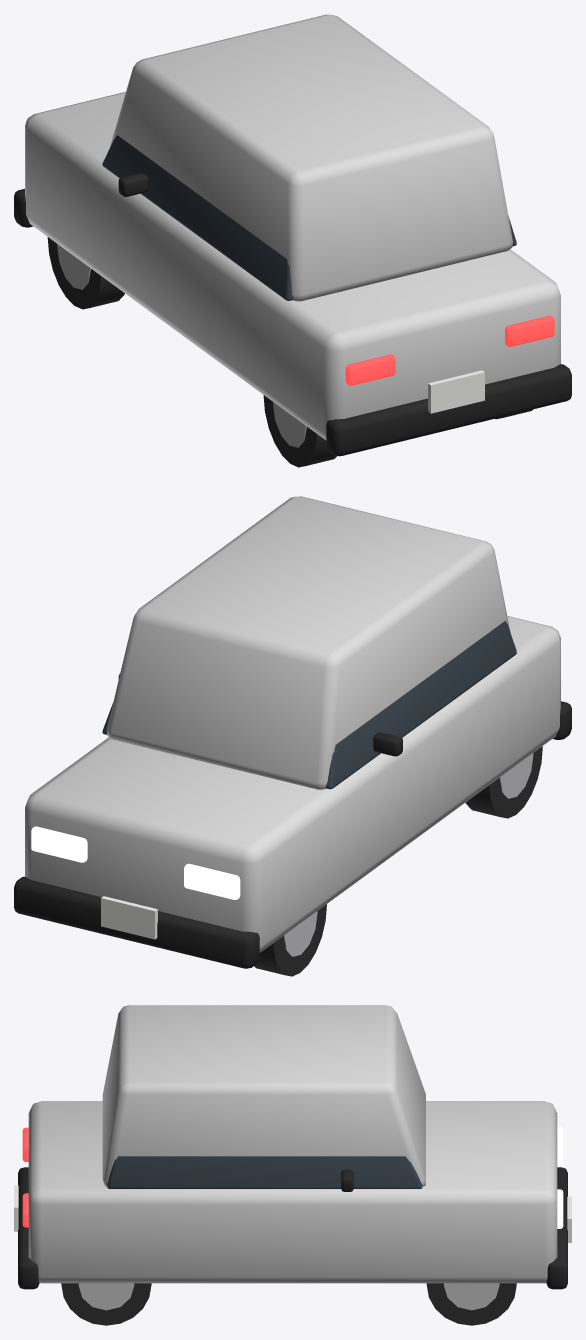
The model's file is car_kei.glb.
3 views of the same model, one above another, from view 1: azimuth 30°, elevation 25°; view 2: azimuth 150°, elevation 25°; view 3: azimuth 270°, elevation 25° (orthographic). The views are drawn at different scales.
Visible parts, largest first — view 1: Body, Trim, Glass, WheelMesh_FL, WheelMesh_RL, Light_Tail, Plate, Mirror; view 2: Body, Trim, Glass, Light_Head, WheelMesh_RL, WheelMesh_FL, Plate, Mirror; view 3: Body, Glass, WheelMesh_FR, WheelMesh_RR, Trim, Light_Head, Light_Tail, Plate.
Part boxes in pixels (box(x1,y1,x2,y2)): Body: box(25, 14, 560, 440); Trim: box(14, 188, 571, 456); Glass: box(102, 135, 516, 300); WheelMesh_FL: box(47, 237, 124, 309); WheelMesh_RL: box(263, 395, 336, 467); Light_Tail: box(345, 315, 554, 385); Plate: box(428, 370, 484, 413); Mirror: box(118, 173, 148, 196); Body: box(25, 496, 560, 952); Trim: box(14, 701, 571, 968); Glass: box(102, 620, 516, 789); Light_Head: box(31, 826, 240, 899); WheelMesh_RL: box(465, 746, 542, 818); WheelMesh_FL: box(254, 904, 326, 976); Plate: box(101, 896, 157, 939); Mirror: box(118, 674, 402, 756); Body: box(28, 1005, 557, 1283); Glass: box(107, 1156, 422, 1188); WheelMesh_FR: box(426, 1283, 516, 1325); WheelMesh_RR: box(61, 1283, 151, 1325); Trim: box(18, 1167, 567, 1289); Light_Head: box(557, 1126, 563, 1228); Light_Tail: box(22, 1127, 28, 1227); Plate: box(14, 1185, 571, 1242).
Bounding box in the file's own units: 1.76 × 1.67 × 3.59.
